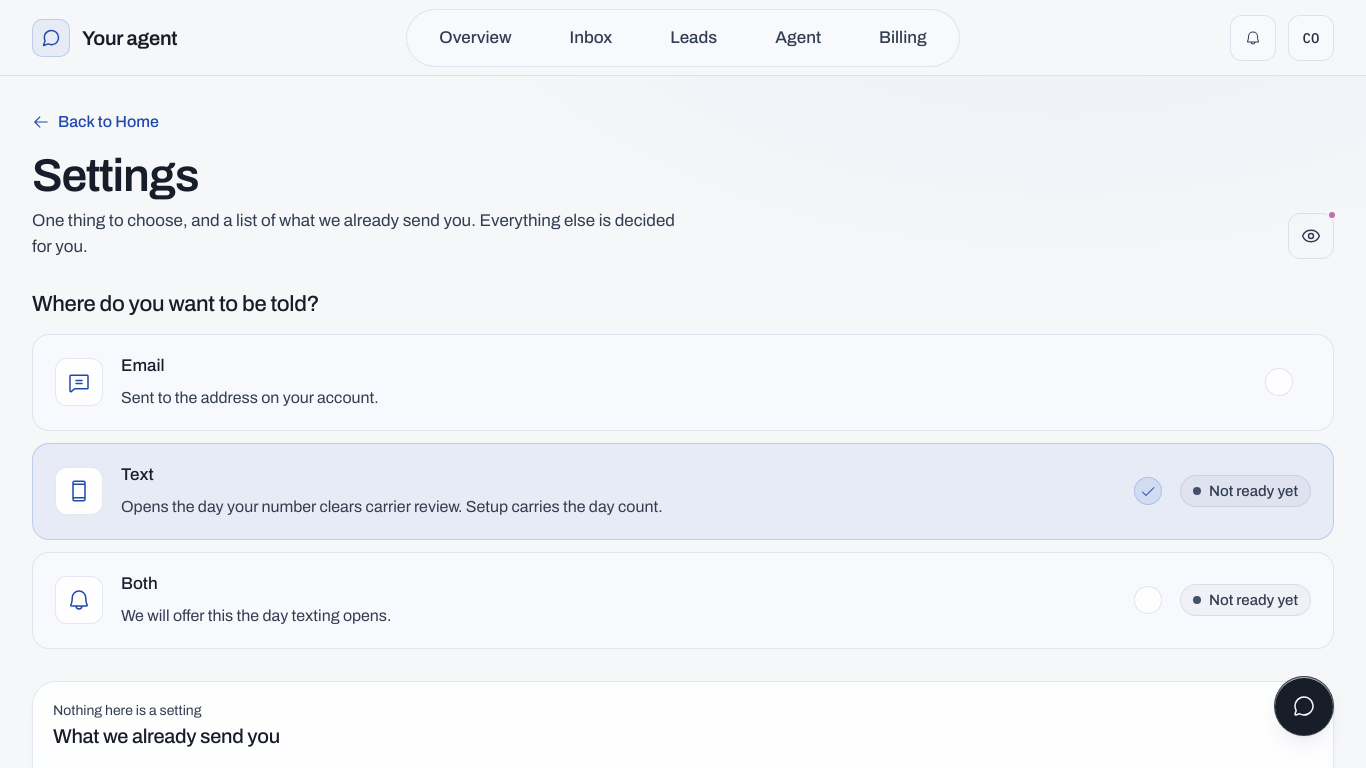
Test: CoachSettingsNotifications › writes the picked answer and reports what came back
The width and height of the screenshot is (1366, 768).
Expected: the radio button labelled "Text" is checked, [32,443,1334,540]
Click the radio button labelled "Email Sent to the address on your account." at (79, 382), box [32,334,1334,431]
(page scrolled)
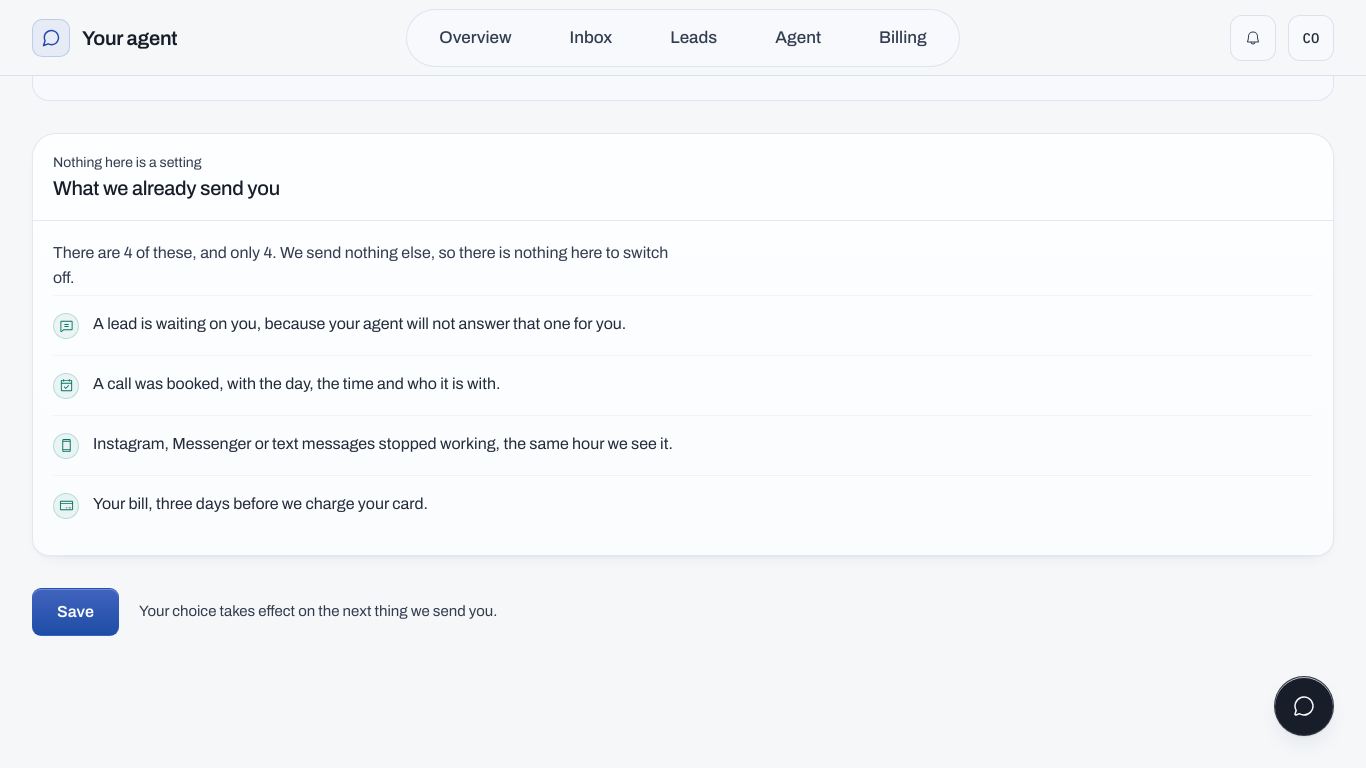
Click the button "Save" at (76, 612), box [32,588,119,636]
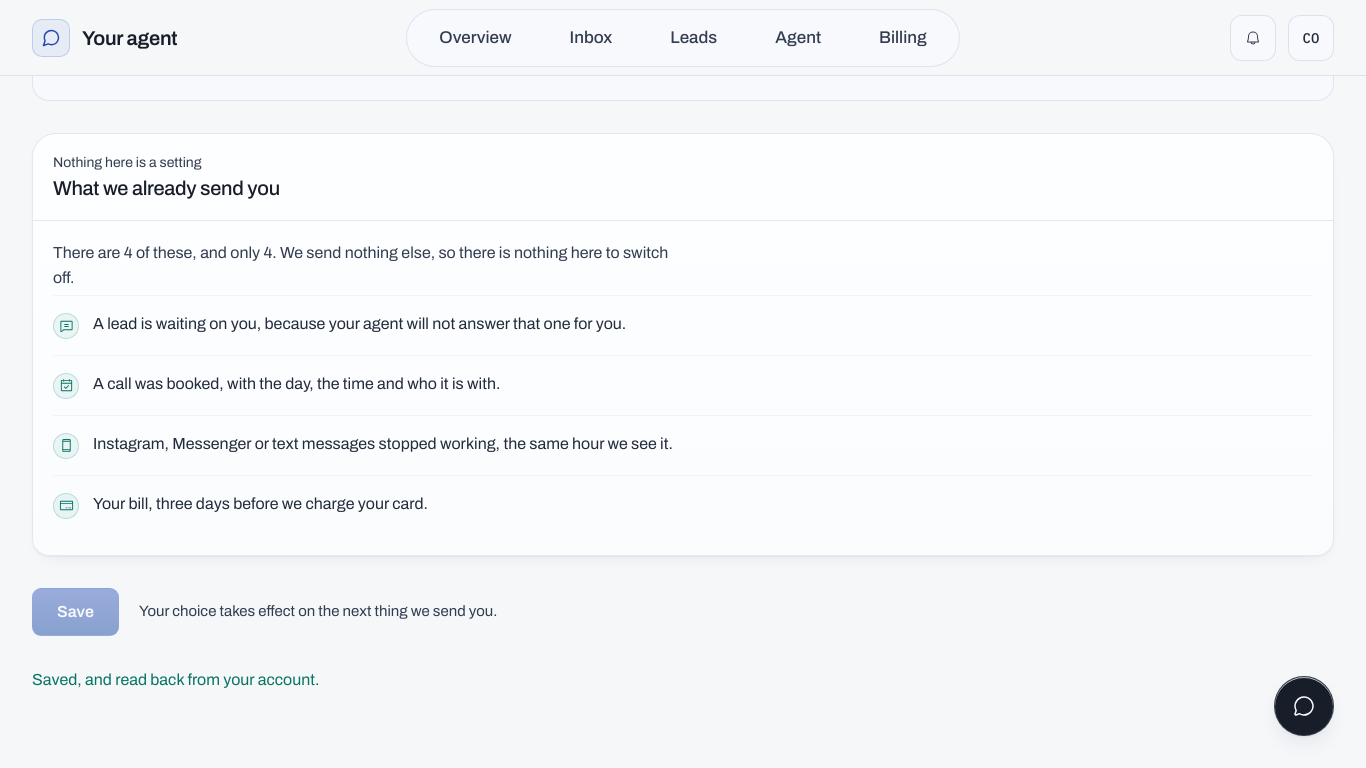
Expected: the text "Saved, and read back from your account." is shown, [32,671,319,688]
